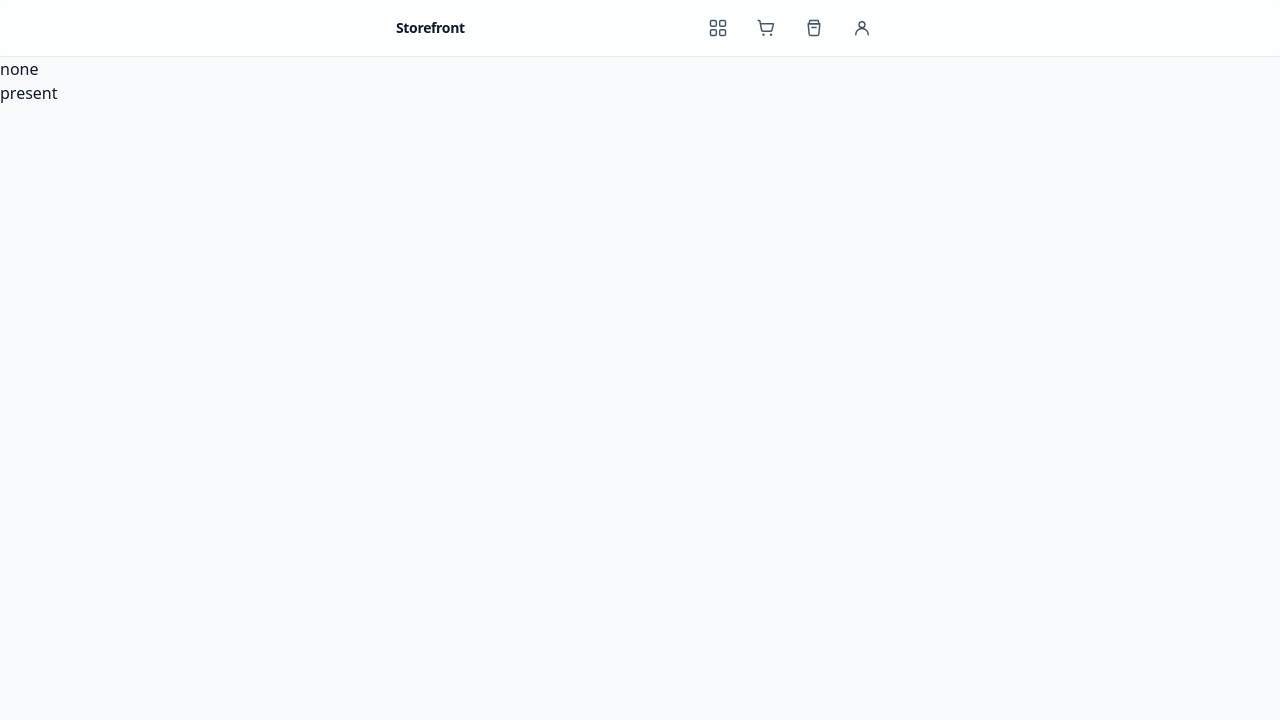
Test: ResetControl › shows a distinct alarm, with no implied retry, on a 409 unscoped_participant (C6b)
Click the button named "Profile" at (862, 28), box [840,6,884,50]
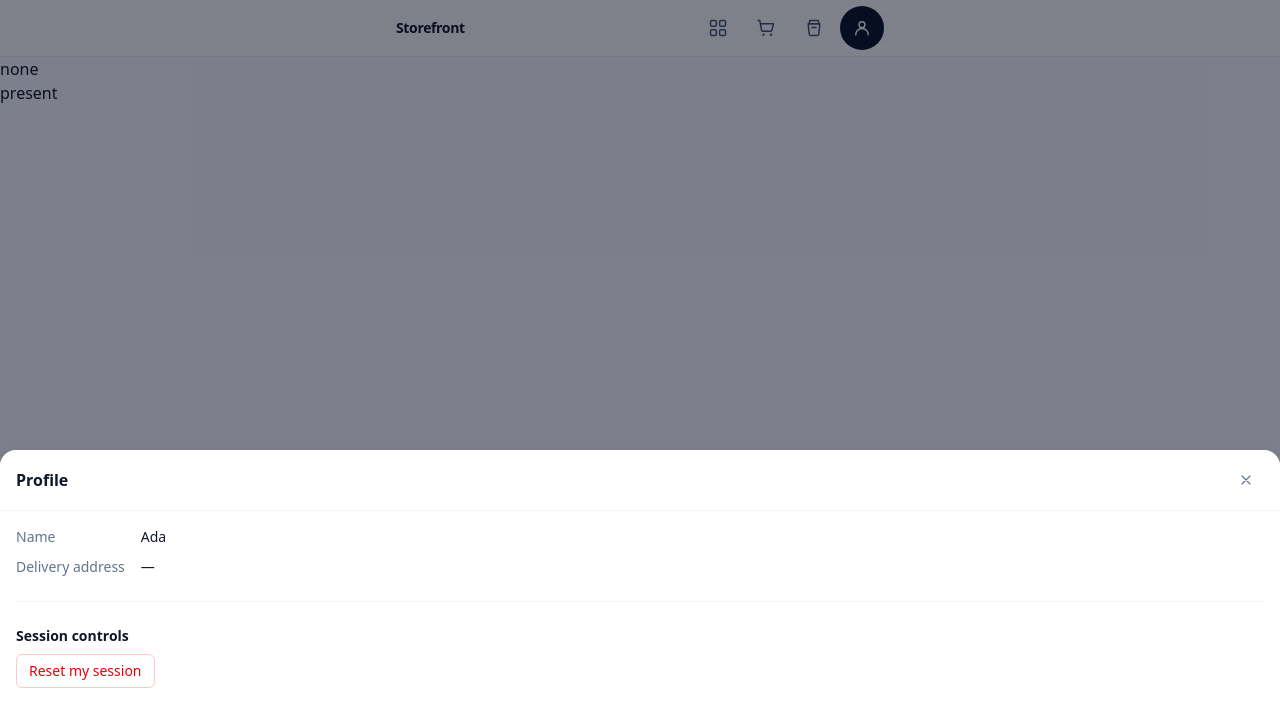
Click the button "Reset my session" at (85, 671), box [16,654,154,688]
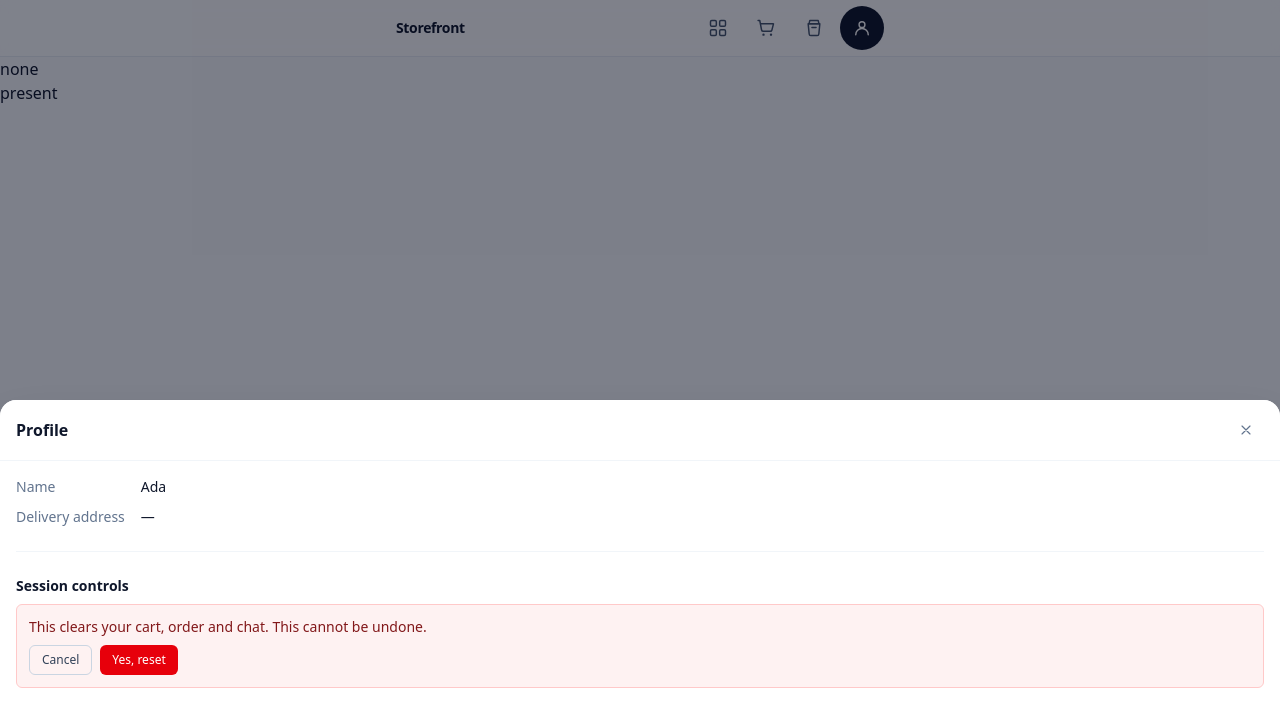
Click the button "Yes, reset" at (139, 660), box [100,645,178,675]
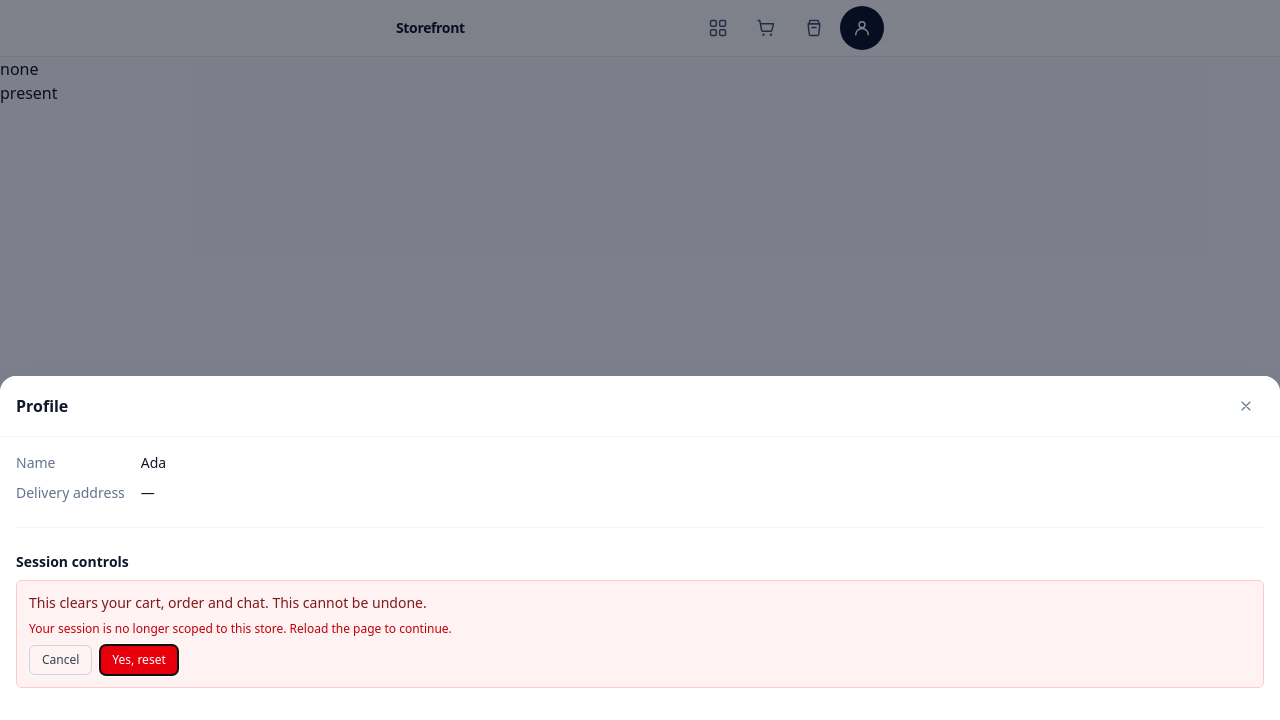
expect the message does not show "try again": met, box [29,620,452,637]
expect the message shows "no longer scoped to this store": met, box [29,620,452,637]
